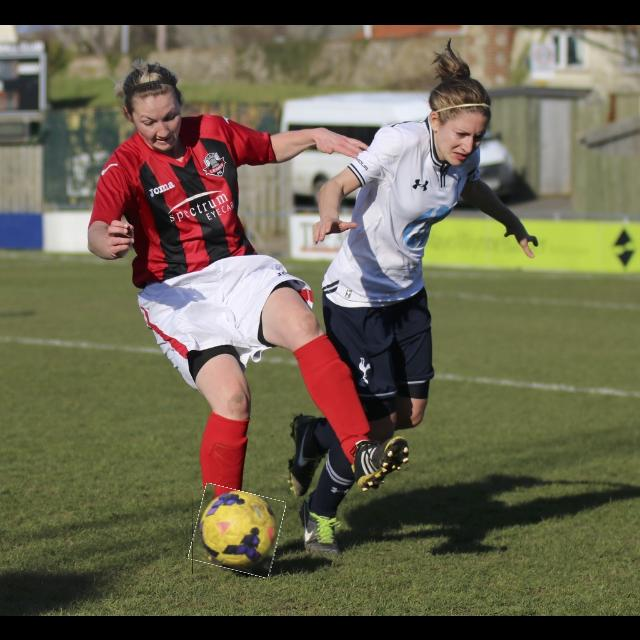Football: (192, 488, 282, 574)
